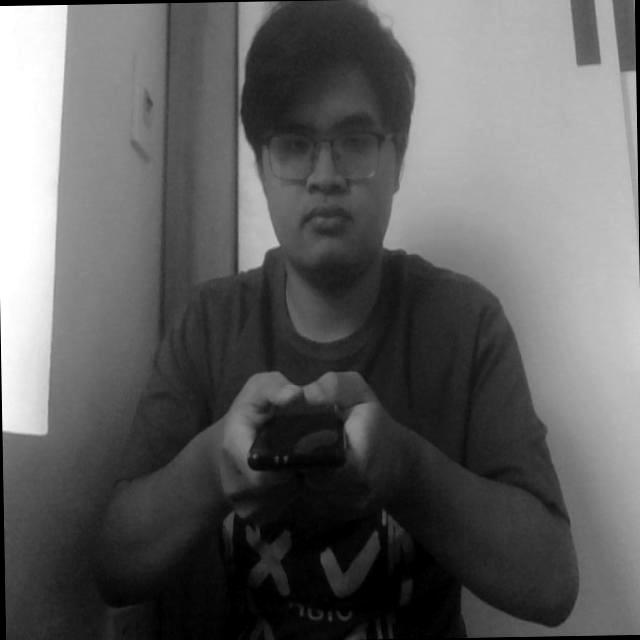phone: (242, 378, 371, 494)
